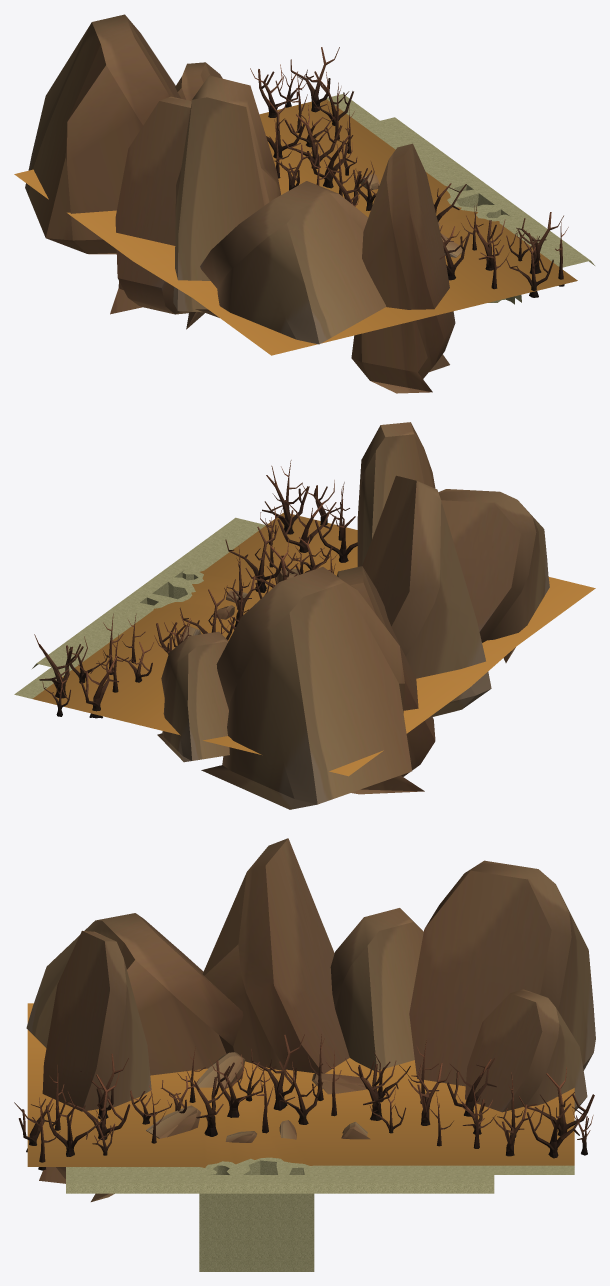
Rendered from Environment_v2.fbx.
3 views of the same model, one above another, from view 1: azimuth 30°, elevation 25°; view 2: azimuth 150°, elevation 25°; view 3: azimuth 270°, elevation 25° (orthographic). The views are drawn at different scales.
Visible parts, largest first — view 1: Background.064; view 2: Background.064; view 3: Background.064.
Boxes of the visible parts, x1,y1,x2,y2 form: Background.064: (14, 14, 594, 393); Background.064: (14, 422, 595, 809); Background.064: (14, 838, 595, 1271).
Bounding box in the file's own units: 8818 × 6303 × 11162.
3 materials, 3 textured.
